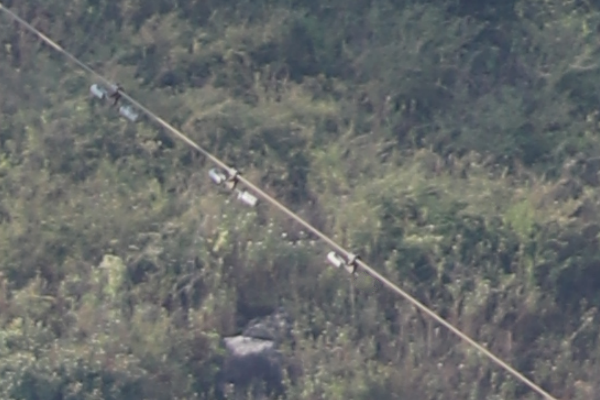damper: (206, 162, 262, 209), (88, 80, 142, 123)
damper_defect: (325, 246, 361, 279)
